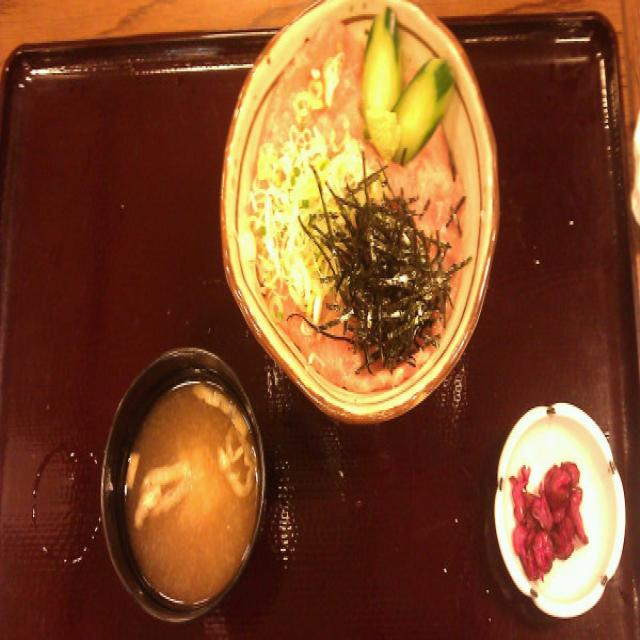刺身生食: (215, 7, 500, 421)
汤锅炖物: (98, 339, 269, 624)
